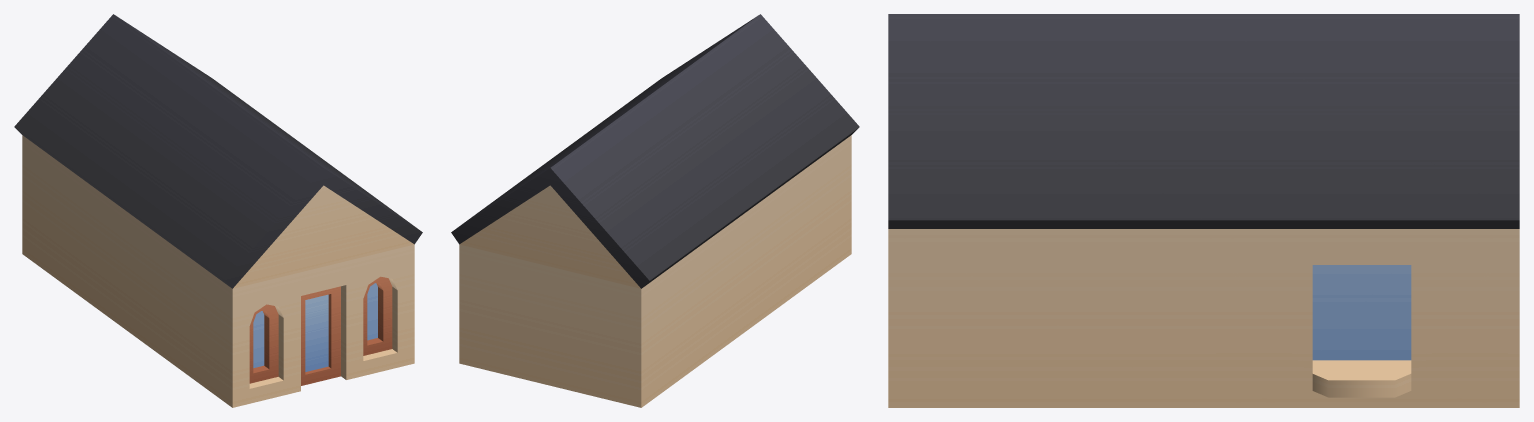
File: house-a.glb
The picture shows the model from 3 angles, left to right: view 1: azimuth 30°, elevation 25°; view 2: azimuth 150°, elevation 25°; view 3: azimuth 270°, elevation 25°; orthographic projection. The views are drawn at different scales.
Parts seen in each view (by area): view 1: building-sample-house-a; view 2: building-sample-house-a; view 3: building-sample-house-a.
Boxes of the visible parts, box(x1,y1,x2,y2) form: building-sample-house-a: box(14, 14, 422, 407); building-sample-house-a: box(451, 14, 859, 407); building-sample-house-a: box(888, 14, 1519, 407).
Bounding box in the file's own units: 1.1 × 1.14 × 2.
1 material, 1 textured.
